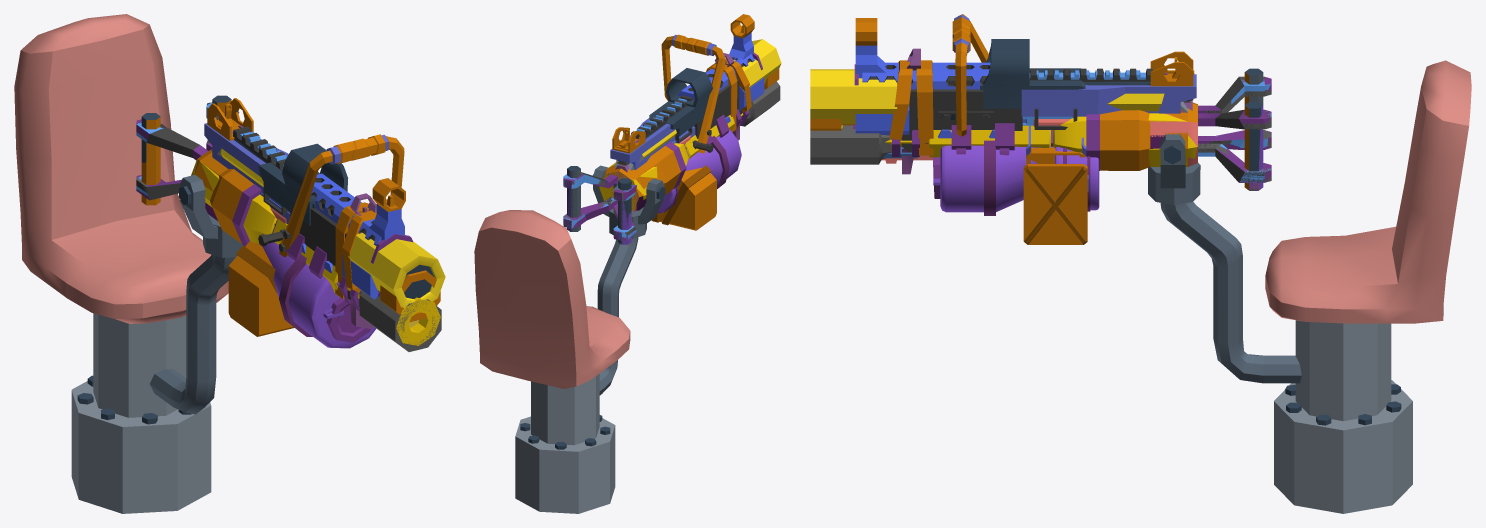
File: Weapons_01.fbx
The picture shows the model from 3 angles, left to right: view 1: azimuth 30°, elevation 25°; view 2: azimuth 150°, elevation 25°; view 3: azimuth 270°, elevation 25°; orthographic projection. The views are drawn at different scales.
Visible parts, largest first — view 1: Weapon_Chair, weapon_04, weapon_03, WeaponDeck, Weapon_01, weapon_02; view 2: Weapon_Chair, weapon_04, weapon_03, Weapon_01, WeaponDeck, weapon_02; view 3: Weapon_Chair, weapon_04, weapon_03, WeaponDeck, weapon_02, Weapon_01.
Part boxes in pixels (bbox=[...]): Weapon_Chair: bbox=[14, 14, 228, 513]; weapon_04: bbox=[136, 98, 440, 336]; weapon_03: bbox=[136, 111, 441, 351]; WeaponDeck: bbox=[150, 175, 242, 414]; Weapon_01: bbox=[136, 95, 440, 345]; weapon_02: bbox=[136, 99, 445, 307]; Weapon_Chair: bbox=[474, 210, 630, 513]; weapon_04: bbox=[581, 14, 779, 234]; weapon_03: bbox=[563, 53, 780, 244]; Weapon_01: bbox=[563, 53, 762, 244]; WeaponDeck: bbox=[593, 165, 665, 395]; weapon_02: bbox=[563, 39, 781, 243]; Weapon_Chair: bbox=[1265, 60, 1471, 513]; weapon_04: bbox=[810, 14, 1271, 244]; weapon_03: bbox=[810, 39, 1271, 215]; WeaponDeck: bbox=[1148, 134, 1301, 383]; weapon_02: bbox=[810, 69, 1271, 190]; Weapon_01: bbox=[841, 64, 1271, 198].
Bounding box in the file's own units: 0.5 × 1.59 × 2.03.
